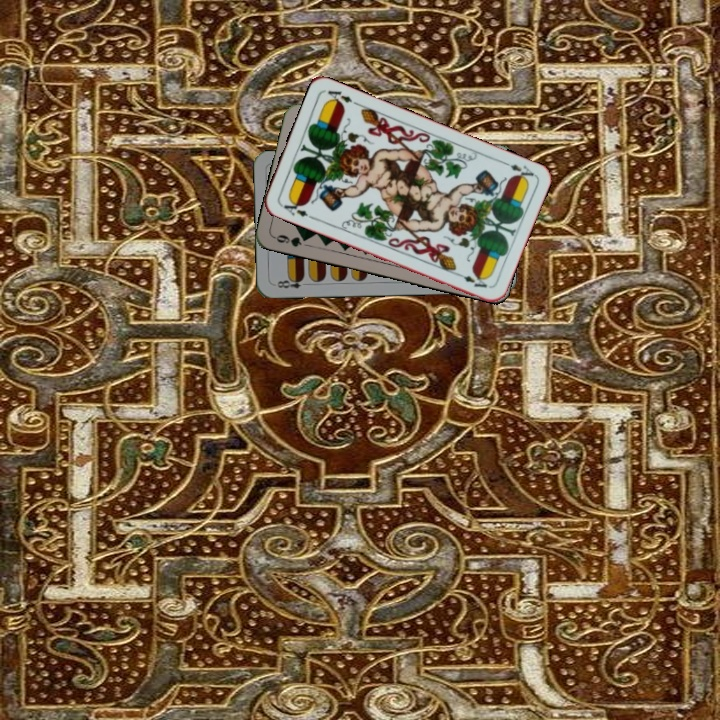E8: (271, 274, 306, 291)
EA: (498, 157, 536, 183), (277, 196, 310, 220)
G9: (270, 230, 312, 250)
